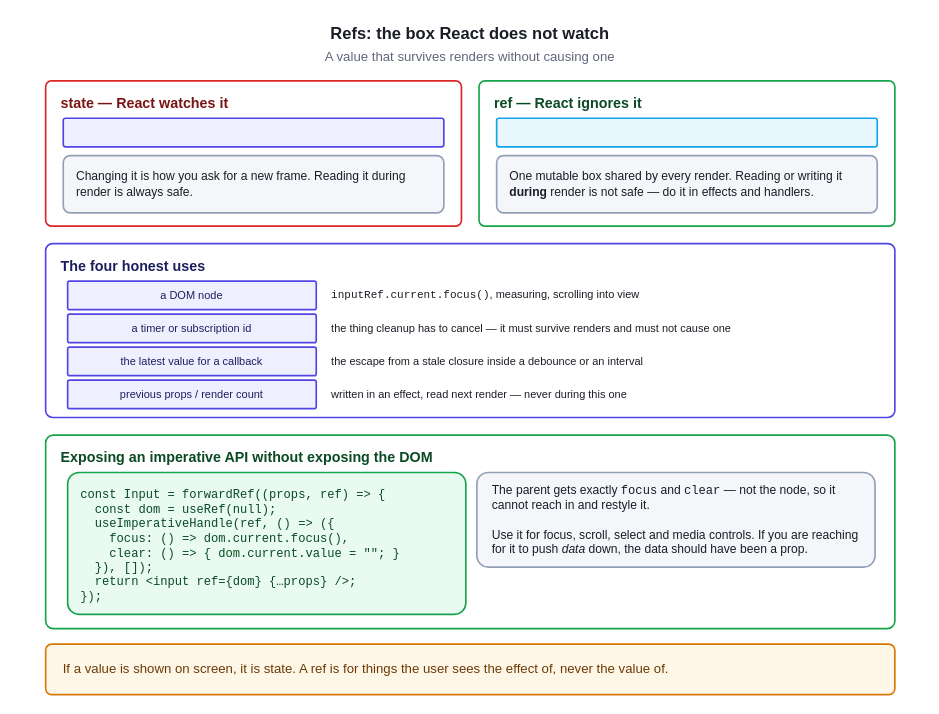
This 939x714 diagram has some shape labels left out. Each missing label, with the centre of its shape:
ref.current = 1 → nothing happens: (686,132)
setCount(1) → re-render → new value on screen: (253,132)
